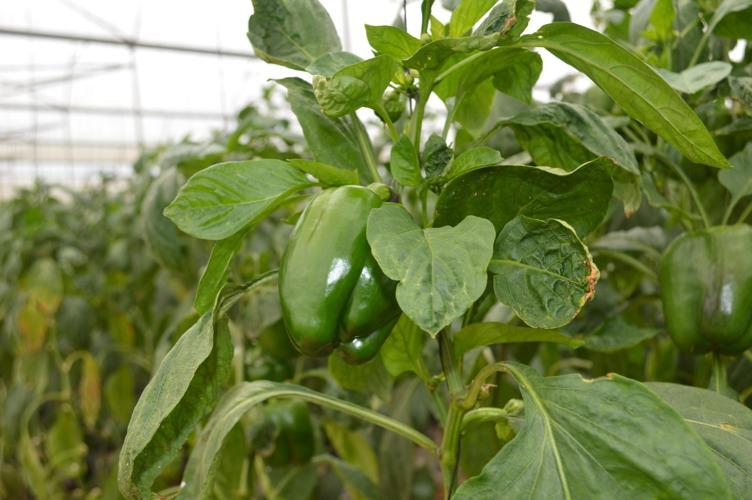BellPepper: (252, 172, 412, 381), (650, 203, 752, 357), (237, 394, 331, 476)
